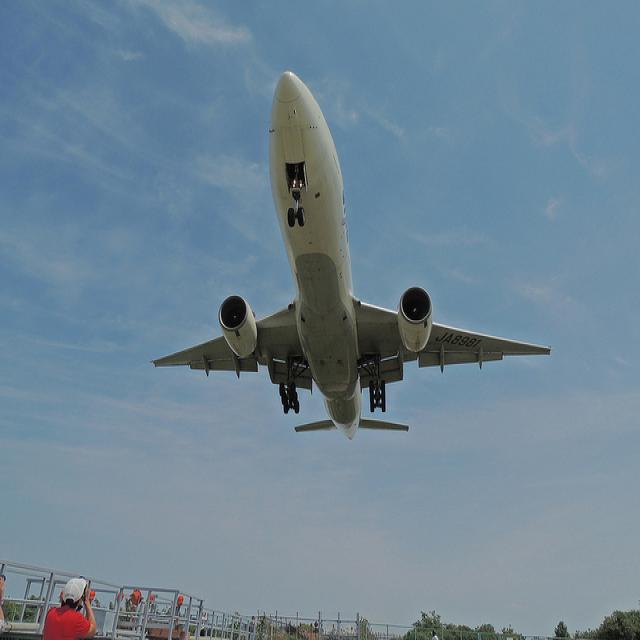airplane: (149, 69, 554, 442)
